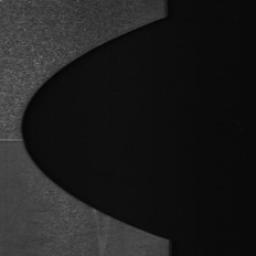Crescent gap: (21, 16, 169, 240)
